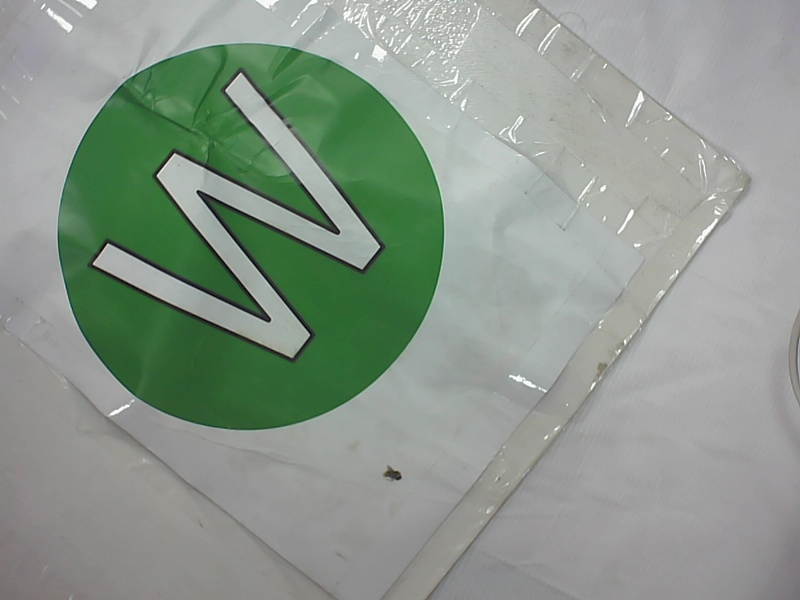areaB: (56, 30, 444, 442)
